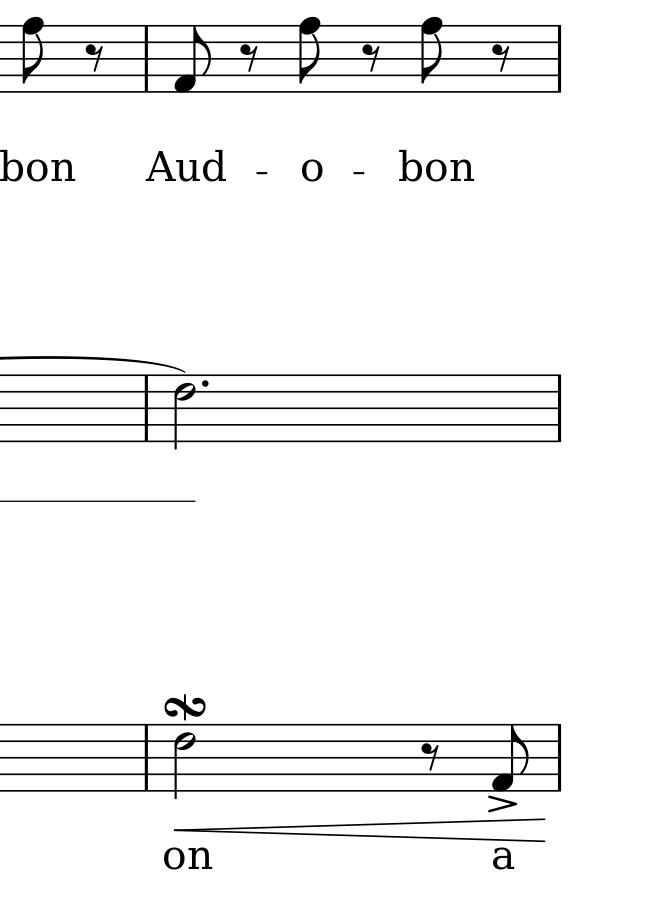2_6: (171, 373, 198, 452), (174, 723, 200, 803)
8_1: (491, 722, 532, 793), (172, 26, 212, 92)
8_8: (19, 14, 45, 99), (297, 16, 323, 95), (419, 16, 445, 95)
Accent_above: (486, 794, 518, 814)
Crescendo_hairpin: (171, 815, 547, 844)
Rests8: (490, 43, 515, 75), (84, 43, 107, 77), (238, 41, 260, 74), (361, 43, 383, 76), (419, 742, 441, 773)
Single_barline: (543, 375, 572, 441), (134, 25, 161, 92), (544, 723, 569, 792), (135, 377, 156, 440), (139, 724, 158, 792), (550, 24, 567, 93)
Turn_Slash: (162, 694, 211, 722)
dot: (197, 374, 213, 395), (197, 378, 214, 392)
